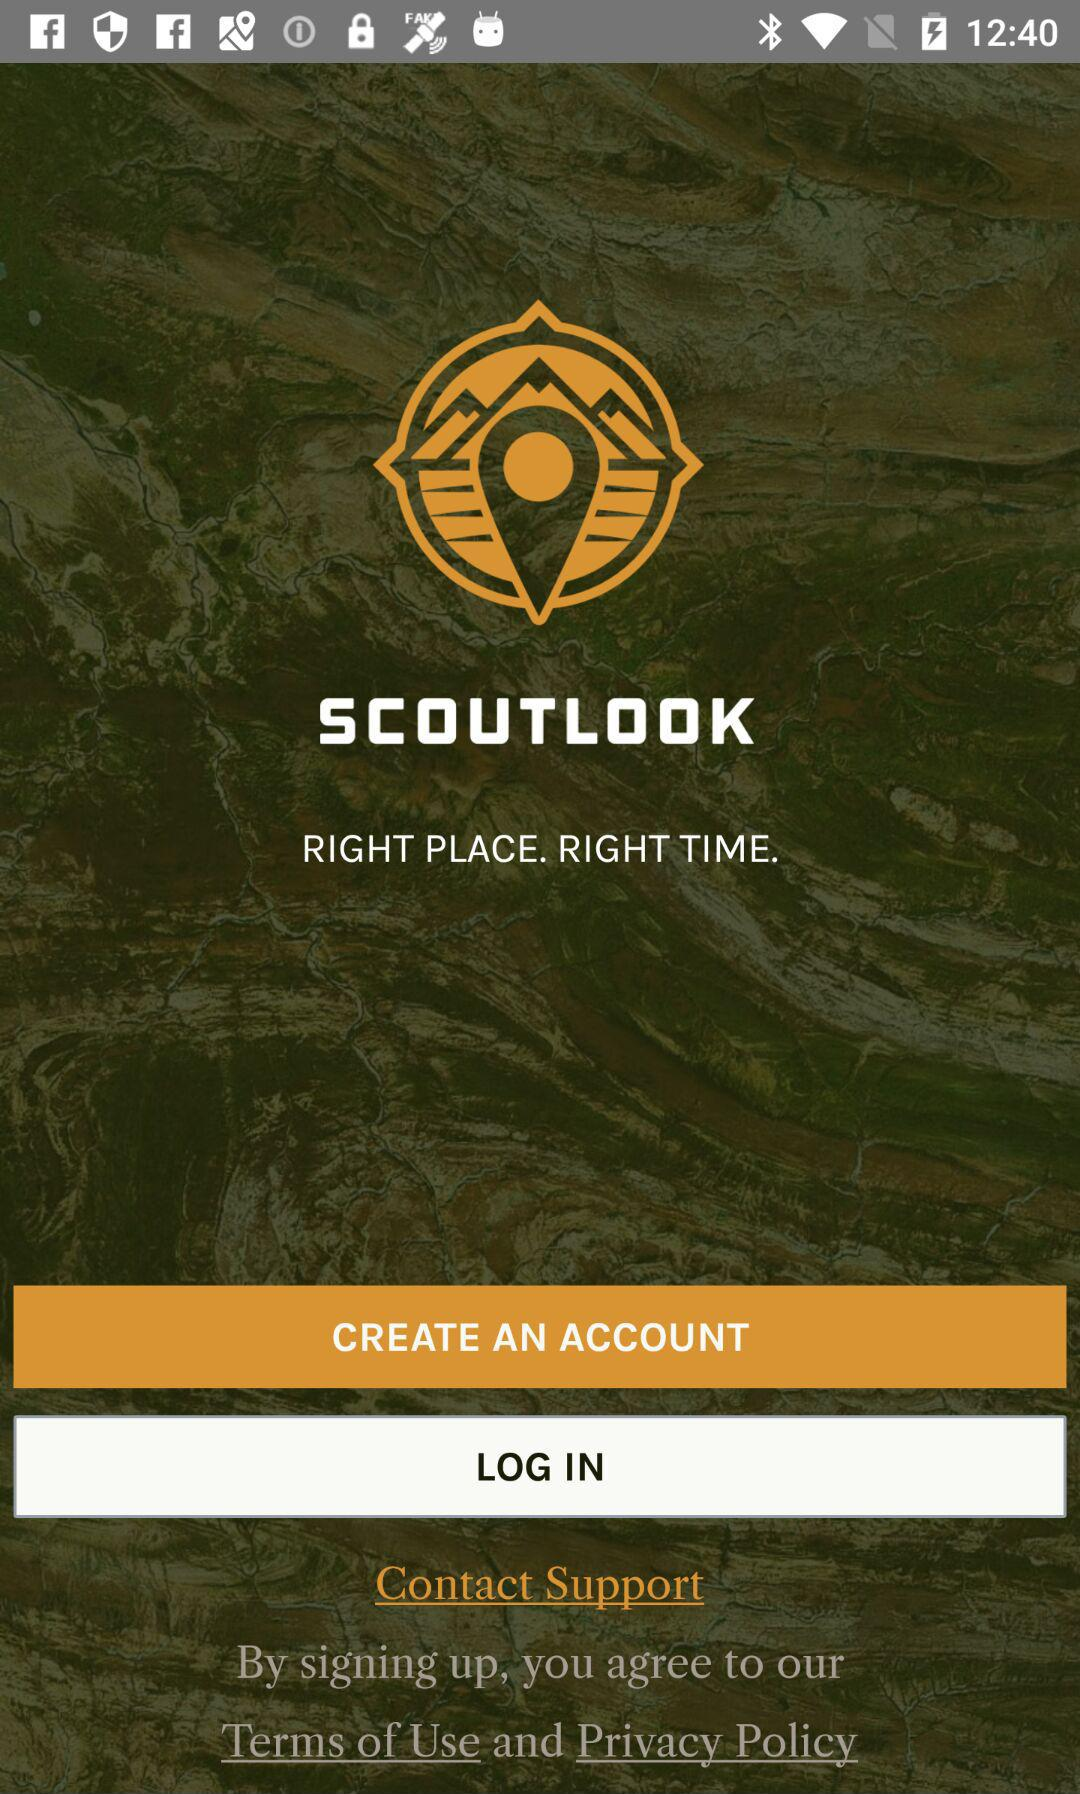BackgroundImage: (1, 64, 1080, 1794)
Image: (372, 299, 706, 627)
Text: (220, 1644, 860, 1770), (319, 697, 757, 746), (373, 1565, 706, 1613), (304, 833, 779, 865)
TextButton: (13, 1285, 1067, 1390), (14, 1415, 1067, 1518)
UpperTaskBar: (1, 1, 1080, 64)
